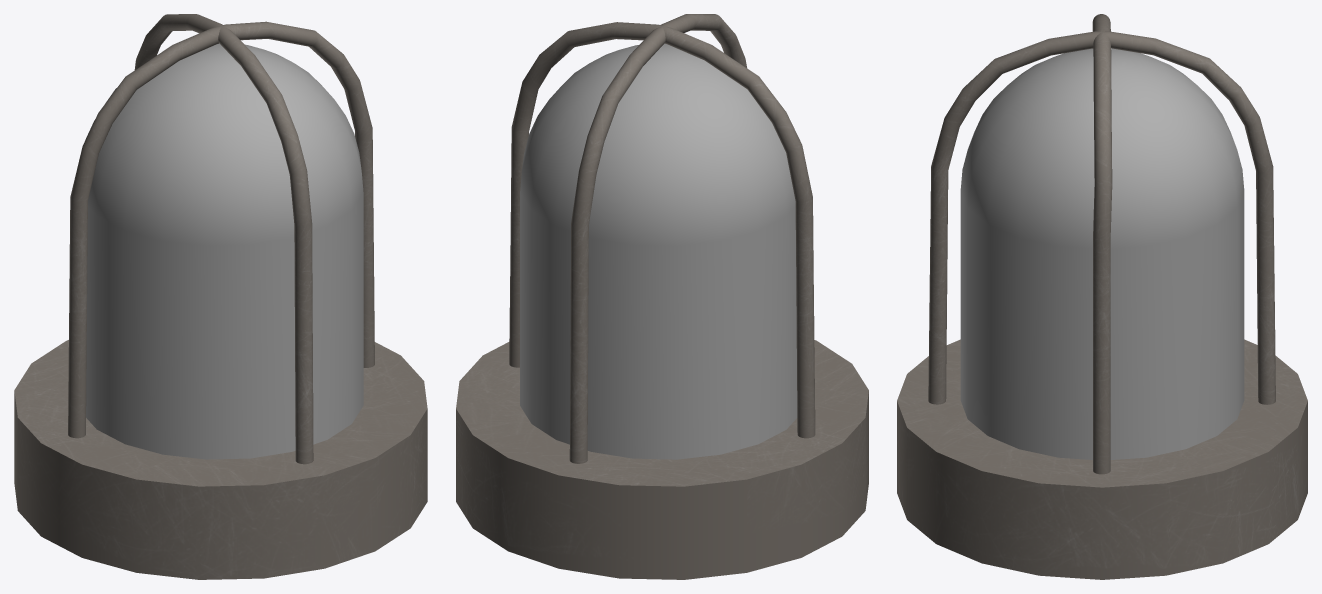
Rendered from lampaspöken_M.fbx.
The picture shows the model from 3 angles, left to right: view 1: azimuth 30°, elevation 25°; view 2: azimuth 150°, elevation 25°; view 3: azimuth 270°, elevation 25°; orthographic projection.
Visible parts, largest first — view 1: pCylinder5; view 2: pCylinder5; view 3: pCylinder5.
Boxes of the visible parts, x1,y1,x2,y2 form: pCylinder5: (14, 14, 427, 579); pCylinder5: (456, 14, 868, 579); pCylinder5: (897, 14, 1307, 579).
Size of the model in its own units: 1.89 by 2.34 by 1.89.
1 material, 1 textured.
